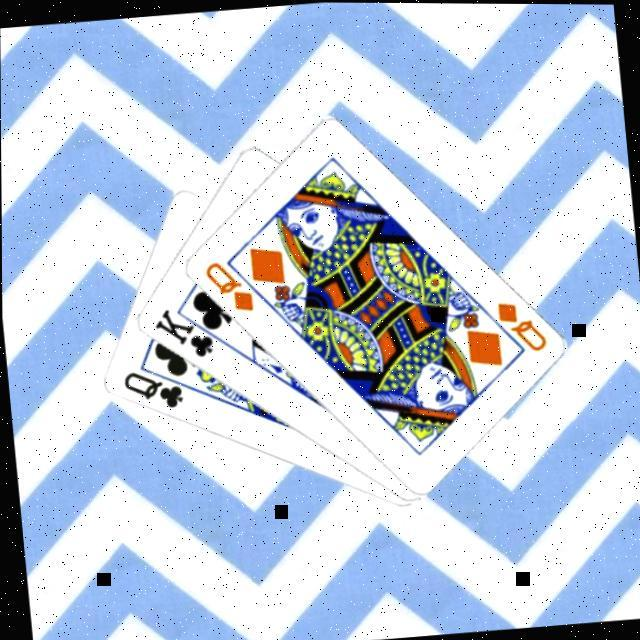KC: (149, 300, 230, 364)
QC: (118, 365, 188, 416)
QD: (492, 295, 550, 357), (200, 255, 257, 317)
